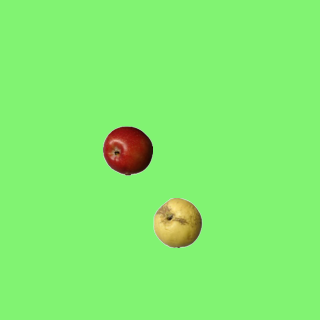Apple Braeburn: (102, 125, 152, 175)
Apple Golden 1: (152, 197, 202, 247)
